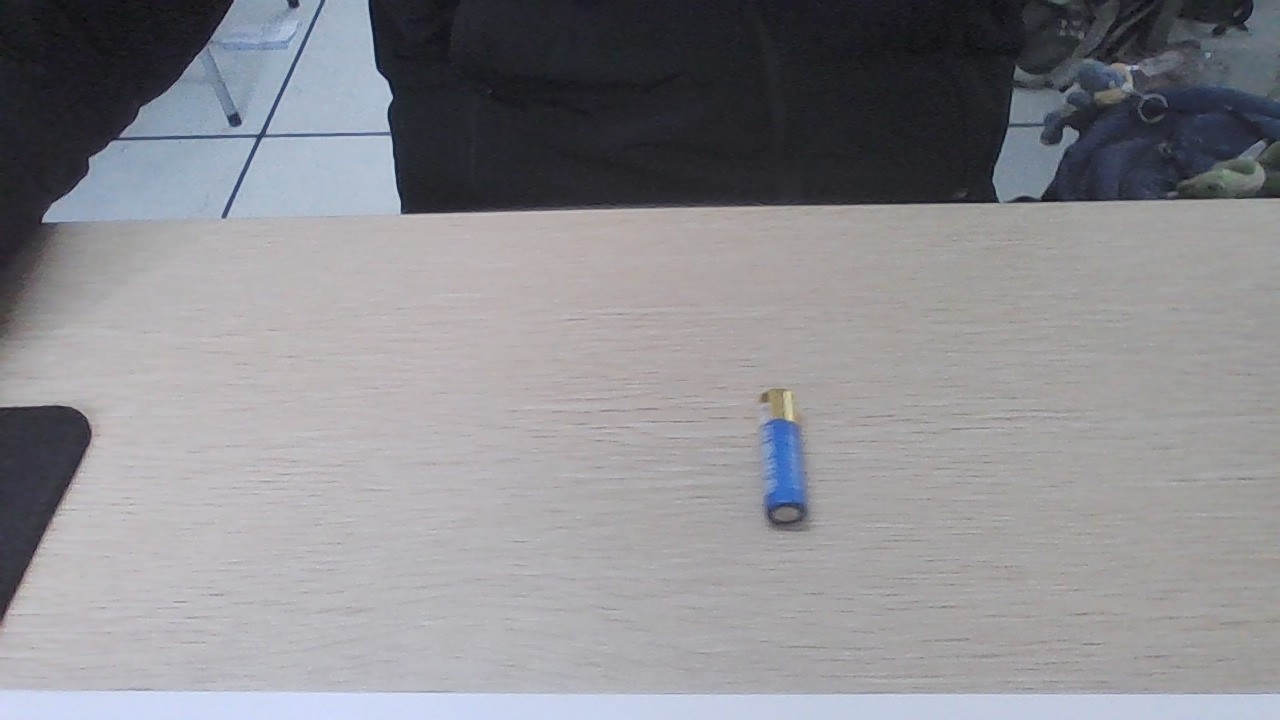YH-battery: (751, 384, 811, 528)
